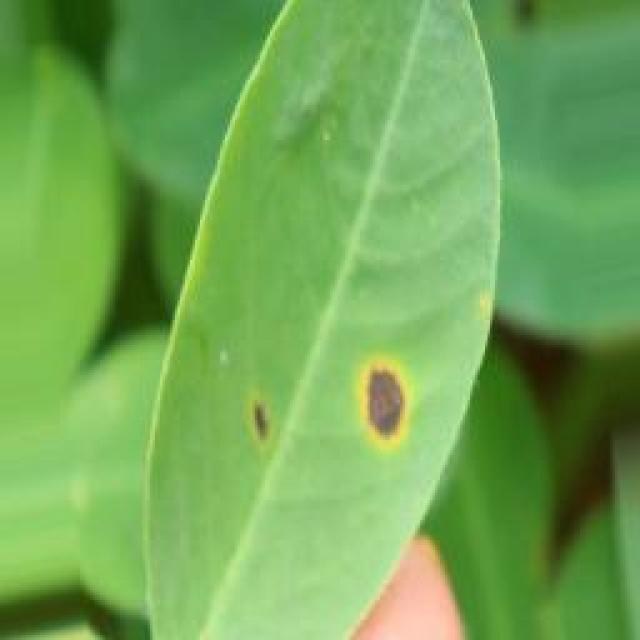Early_leaf_spot: (337, 341, 424, 478), (238, 382, 280, 451)
